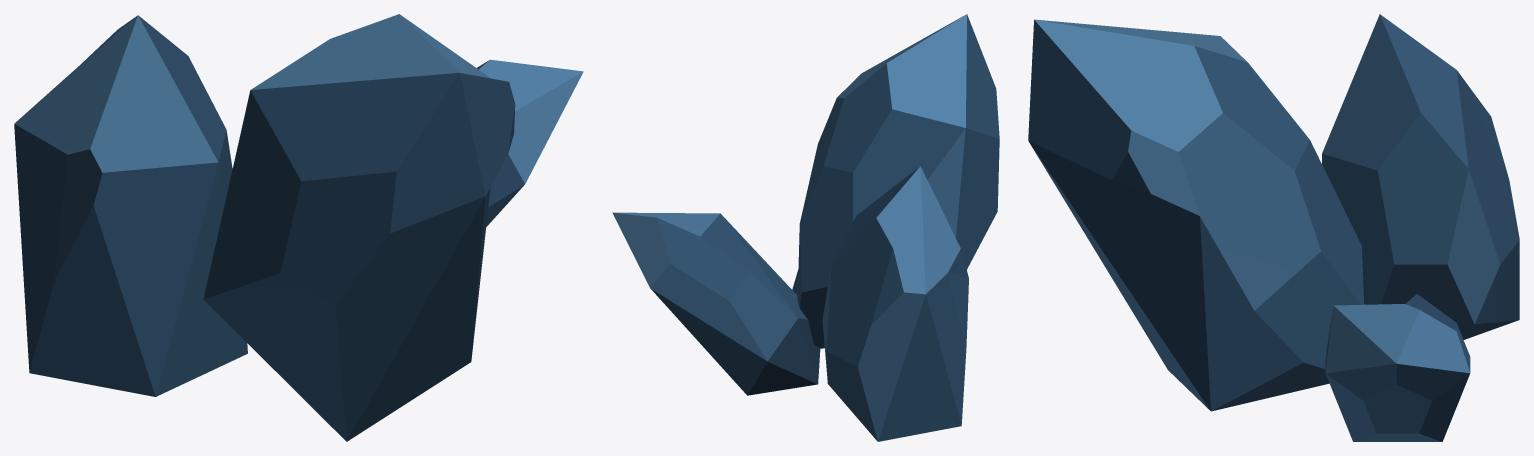
File: MithrilRock.glb
The picture shows the model from 3 angles, left to right: view 1: azimuth 30°, elevation 25°; view 2: azimuth 150°, elevation 25°; view 3: azimuth 270°, elevation 25°; orthographic projection. The views are drawn at different scales.
Visible parts, largest first — view 1: Icosphere.002; view 2: Icosphere.002; view 3: Icosphere.002.
Part boxes in pixels (x1=…): Icosphere.002: x1=14, y1=14, x2=583, y2=441; Icosphere.002: x1=612, y1=14, x2=999, y2=441; Icosphere.002: x1=1028, y1=14, x2=1519, y2=441.
Size of the model in its own units: 1.4 by 1.1 by 1.25.
